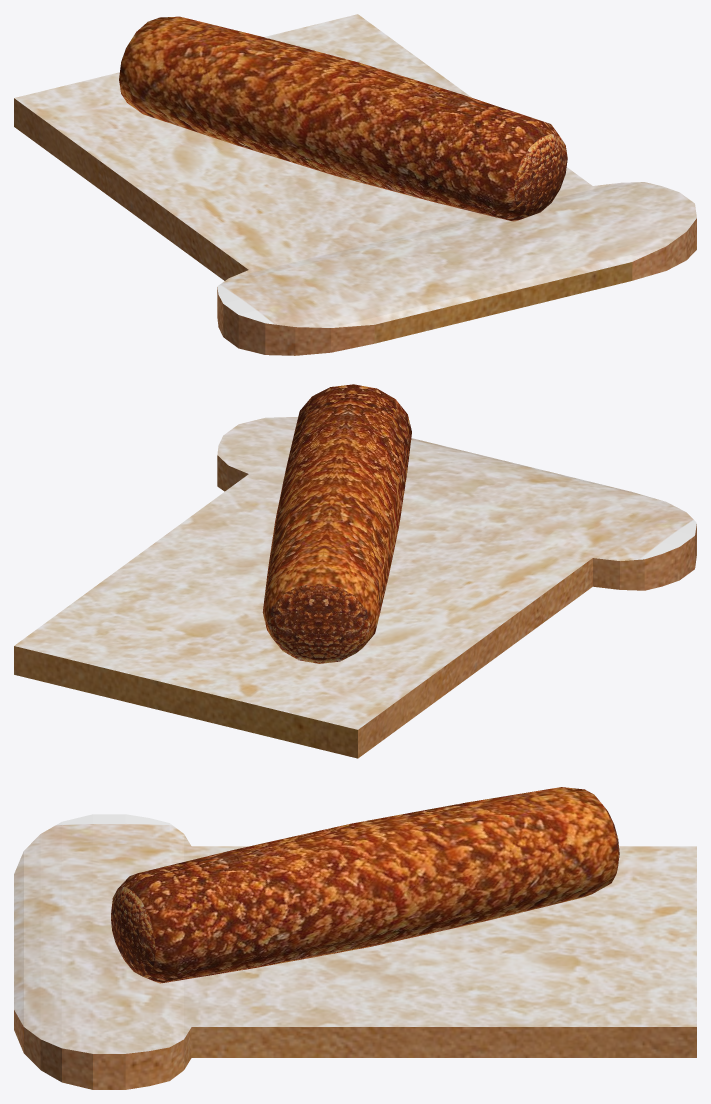
File: Broodje Kronktrue.fbx
The picture shows the model from 3 angles, top to bottom: view 1: azimuth 30°, elevation 25°; view 2: azimuth 150°, elevation 25°; view 3: azimuth 270°, elevation 25°; orthographic projection. The views are drawn at different scales.
Parts seen in each view (by area): view 1: Cube; view 2: Cube; view 3: Cube.
Boxes of the visible parts, x1=… form: Cube: x1=14, y1=14, x2=696, y2=355; Cube: x1=14, y1=384, x2=696, y2=758; Cube: x1=14, y1=787, x2=696, y2=1089.
Bounding box in the file's own units: 41.3 × 11.59 × 49.75.
